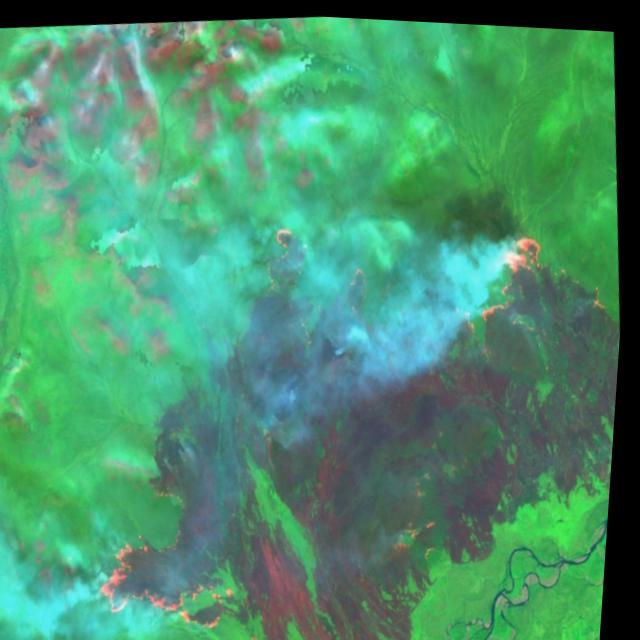fire: (260, 189, 628, 366), (93, 514, 257, 640)
